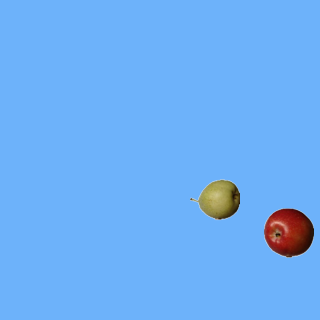Apple Braeburn: (263, 207, 313, 257)
Pear: (189, 174, 239, 224)
